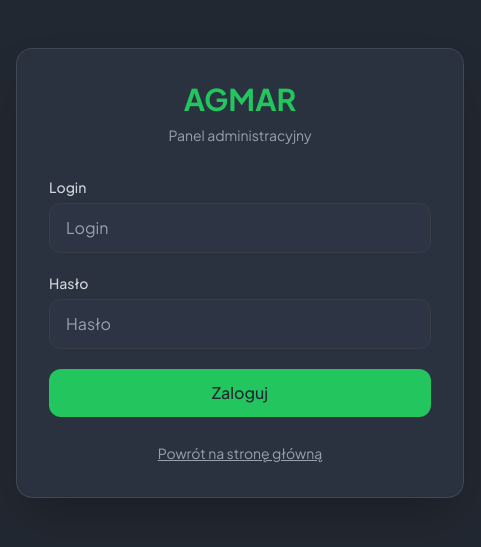
Scenario: LoginForm Component › should show error message on failed login
// Fill in the form
In the field with placeholder "Login": (240, 228) [49,203,431,253], type "wronguser"
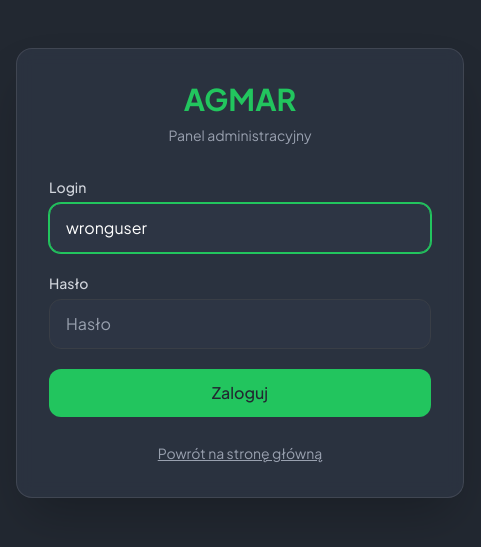
In the password field with placeholder "Hasło": (240, 324) [49,299,431,349], type "wrongpass"
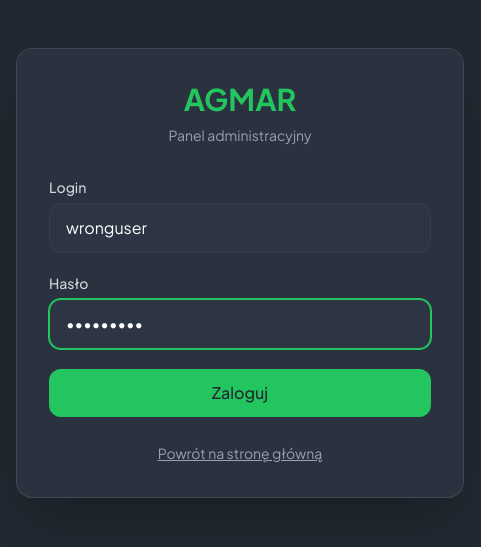
Click the button "Zaloguj": (240, 393) [49,369,431,417]
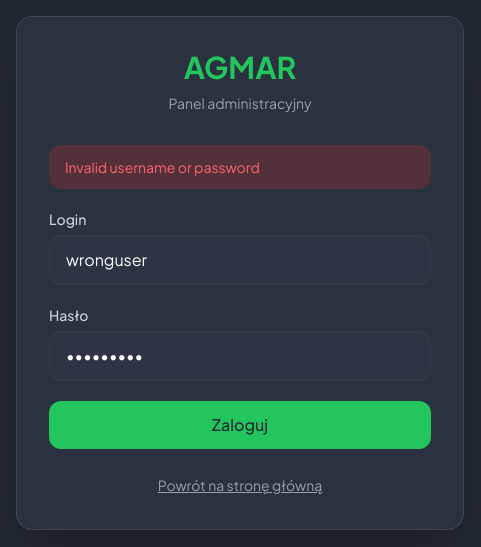
Expected: the text "Invalid username or password" is shown, [49,145,431,189]
